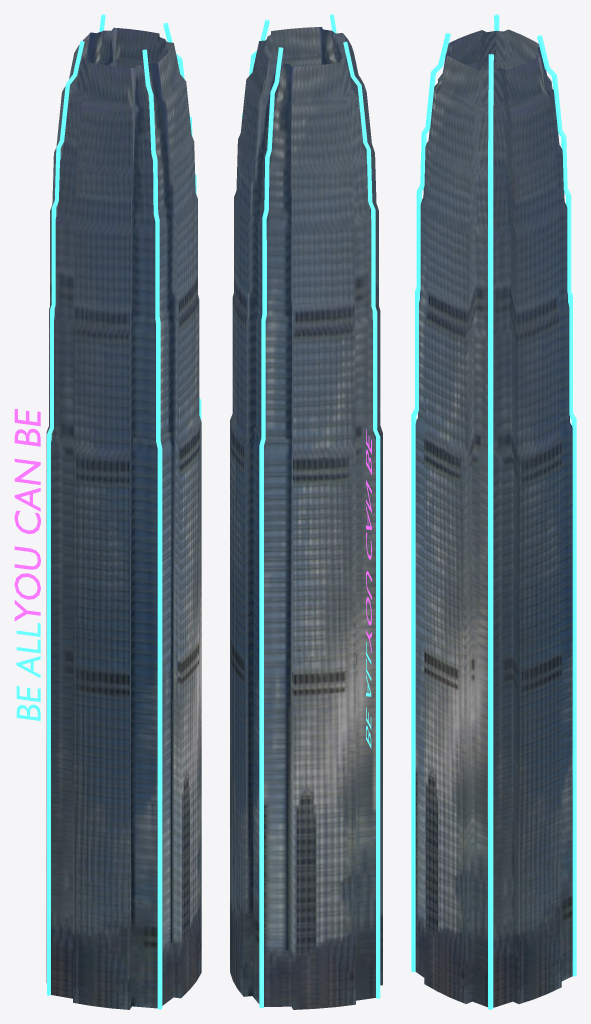
File: bldg_ifc.glb
3 renders of one model, left to right at view 1: azimuth 30°, elevation 25°; view 2: azimuth 150°, elevation 25°; view 3: azimuth 270°, elevation 25°, orthographic.
Visible parts, largest first — view 1: bldg_ifc, lights_ifc, lights_ifc1b, lights_ifc1a; view 2: bldg_ifc, lights_ifc, lights_ifc1b; view 3: bldg_ifc, lights_ifc.
Part boxes in pixels (x1,y1,x2,y2): bldg_ifc: [46, 27, 201, 1009]; lights_ifc: [47, 14, 201, 1009]; lights_ifc1b: [14, 409, 40, 621]; lights_ifc1a: [16, 623, 40, 720]; bldg_ifc: [230, 27, 382, 1009]; lights_ifc: [242, 14, 380, 1008]; lights_ifc1b: [366, 429, 371, 653]; bldg_ifc: [415, 29, 572, 1007]; lights_ifc: [411, 14, 576, 1009].
Size of the model in its own units: 7.82 by 43.38 by 6.92.
